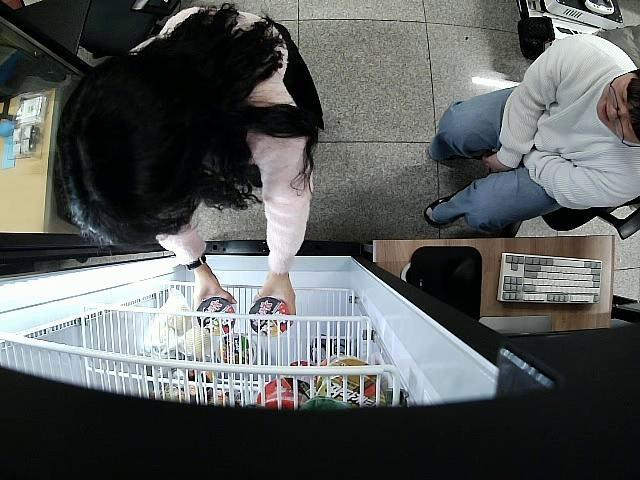08_buldak_S: (248, 298, 291, 335), (197, 297, 236, 336)
